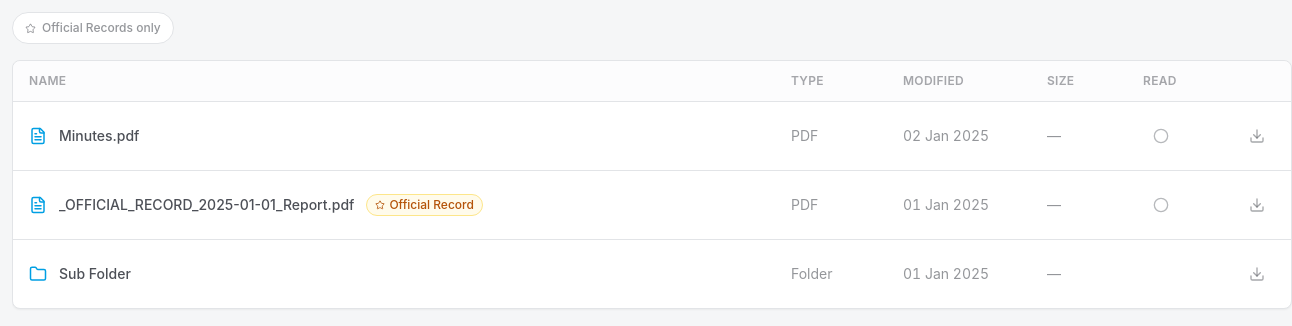
Test: DocumentList › filters to Official Records only
Expected: the text "Minutes.pdf" is shown, [59,126,139,146]
Click the button "Official Records only" at (93, 28), box [12,12,174,44]
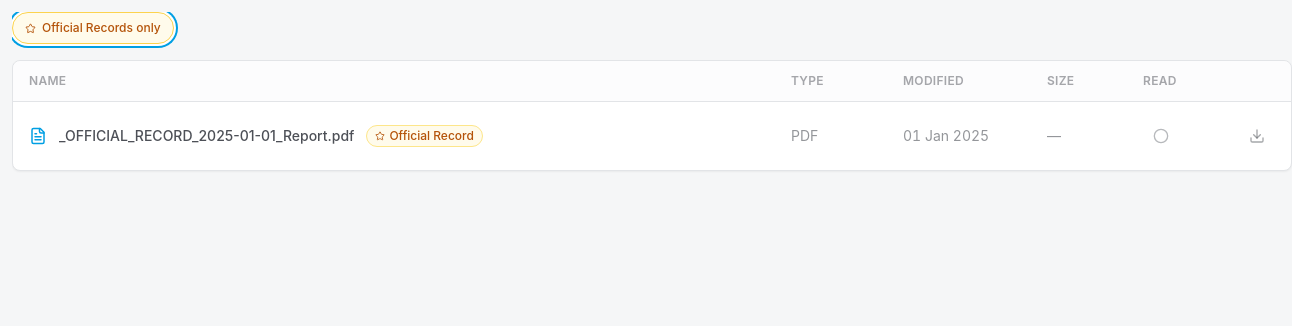
Expected: the text "_OFFICIAL_RECORD_2025-01-01_Report.pdf" is shown, [59,126,354,146]
Expected: the text "Minutes.pdf" is gone
